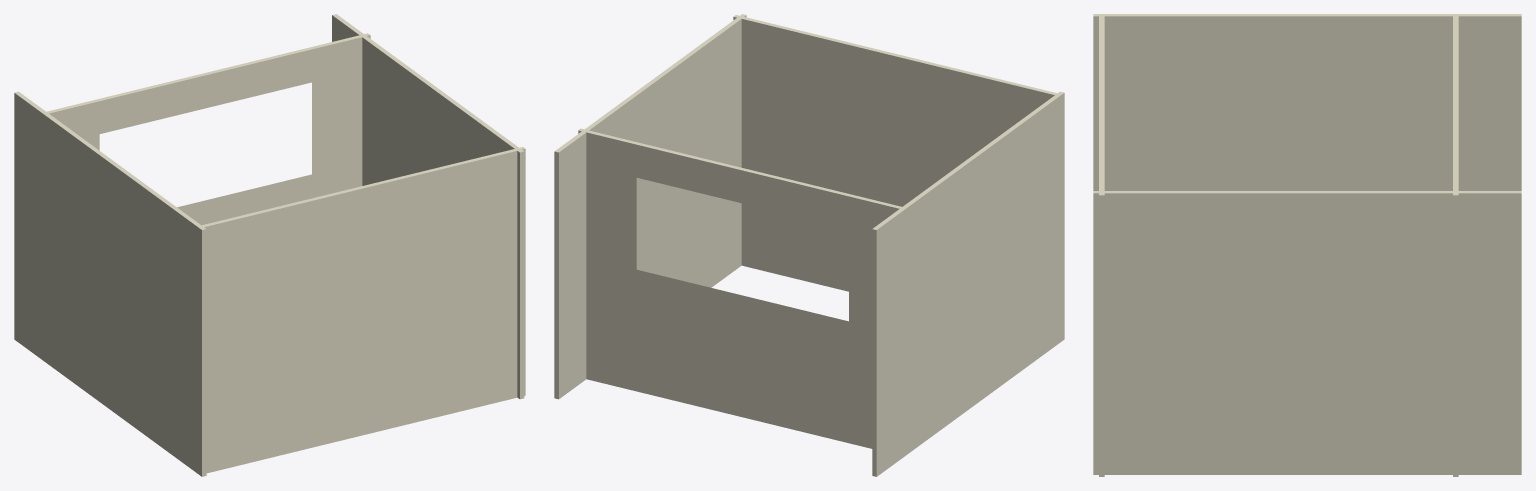
The model's file is New_Room.fbx.
The picture shows the model from 3 angles, left to right: view 1: azimuth 30°, elevation 25°; view 2: azimuth 150°, elevation 25°; view 3: azimuth 270°, elevation 25°; orthographic projection. The views are drawn at different scales.
Parts seen in each view (by area): view 1: pasted__pCube1 (×2), pCube1, pasted__pasted__pCube1; view 2: pasted__pCube1 (×2), pCube1, pasted__pasted__pCube1; view 3: pasted__pasted__pCube1, pasted__pCube1 (×2), pCube1.
Part boxes in pixels (x1=…): pasted__pCube1 (×2): x1=14, y1=91, x2=525, y2=476; pCube1: x1=43, y1=33, x2=370, y2=225; pasted__pasted__pCube1: x1=332, y1=14, x2=524, y2=399; pasted__pCube1 (×2): x1=733, y1=15, x2=1064, y2=476; pCube1: x1=578, y1=128, x2=905, y2=448; pasted__pasted__pCube1: x1=554, y1=14, x2=746, y2=399; pasted__pasted__pCube1: x1=1093, y1=191, x2=1521, y2=474; pasted__pCube1 (×2): x1=1093, y1=14, x2=1521, y2=476; pCube1: x1=1453, y1=14, x2=1458, y2=476.
Size of the model in its own units: 34.91 by 25.25 by 34.82.
